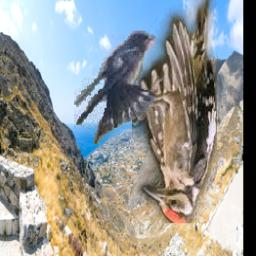Swallow: (75, 31, 158, 145)
Woodpecker: (133, 0, 218, 224)
